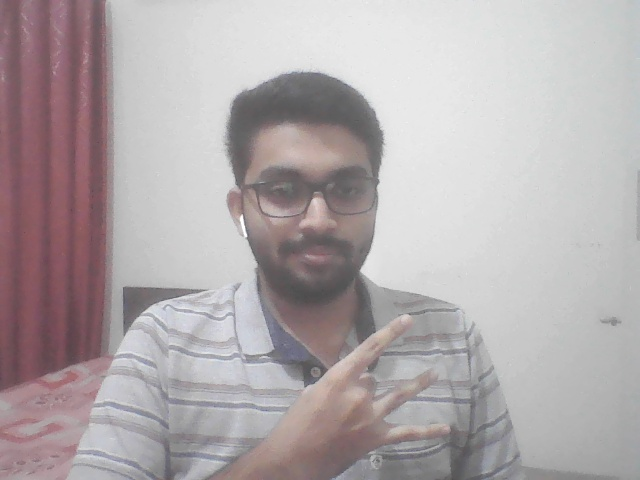like: (237, 309, 461, 474)
